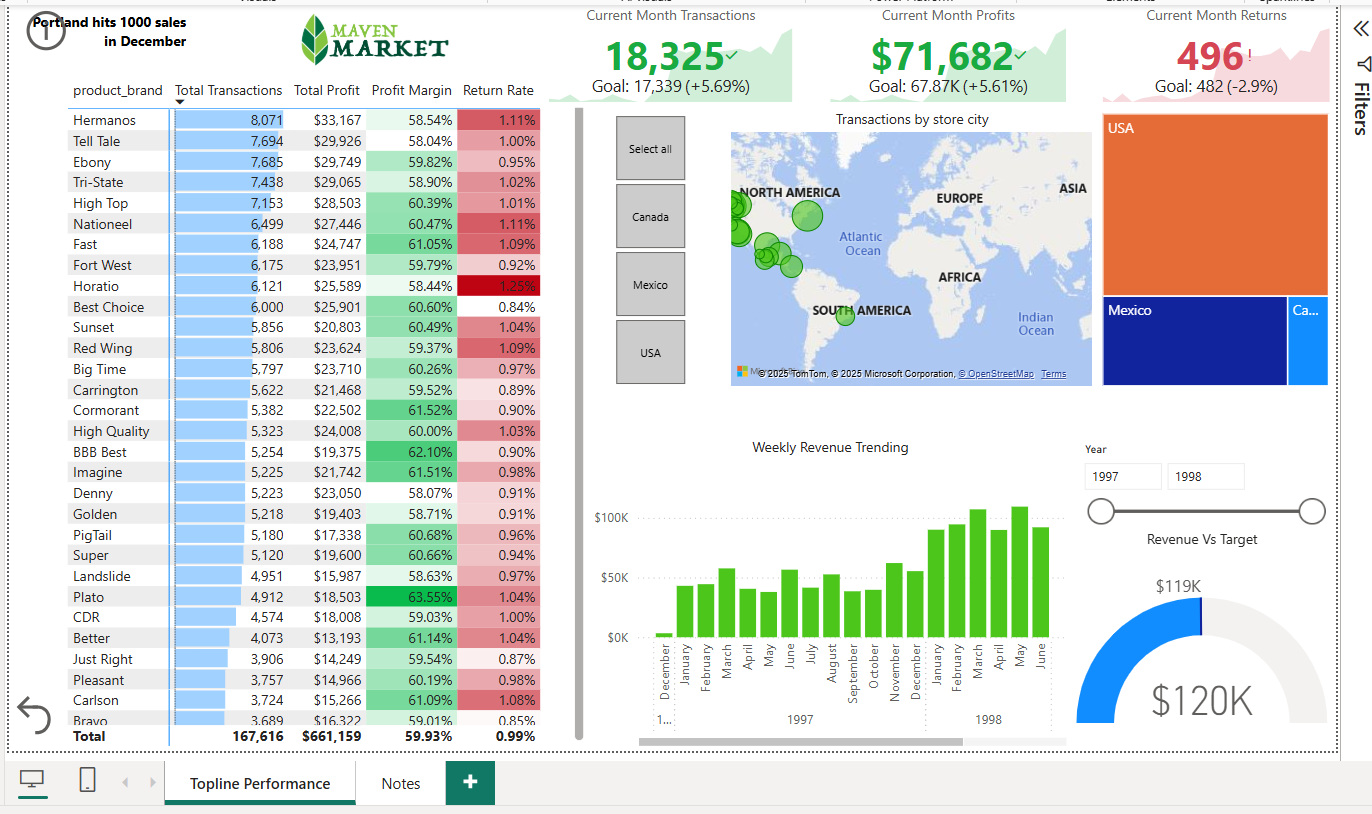

What the dashboard file says about the page in this screenshot:
{"tool":"powerbi","page":{"name":"Topline Performance","canvas":[1280,720],"ordinal":0},"visuals":[{"type":"image","box":[189.4,0,326.9,66.4],"z":0},{"type":"pivotTable","fields":{"Rows":["Products.product_brand"],"Values":["Measures Table.Total Transactions","Measures Table.Total Profit","Measures Table.Profit Margin","Measures Table.Return Rate"]},"box":[51.9,66.4,507.9,653.9],"z":1},{"type":"kpi","title":"Current Month Transactions","fields":{"Indicator":["Measures Table.Total Transactions"],"TrendLine":["Calendar.Start of Month"],"Goal":["Measures Table.Last Month Transactions"]},"box":[516.4,0,244.9,98.9],"z":2},{"type":"kpi","title":"Current Month Profits","fields":{"TrendLine":["Calendar.Start of Month"],"Indicator":["Measures Table.Total Profit"],"Goal":["Measures Table.Last Month Profit"]},"box":[787.8,0,237.7,98.9],"z":3},{"type":"kpi","title":"Current Month Returns","fields":{"TrendLine":["Calendar.Start of Month"],"Indicator":["Measures Table.Total Returns"],"Goal":["Measures Table.Last Month Returns"]},"box":[1050.8,0,229.2,98.9],"z":4},{"type":"map","title":"Transactions by store city","fields":{"Category":["Stores.store_city"],"Size":["Measures Table.Total Transactions"]},"box":[692.5,100.1,358.3,272.7],"z":5},{"type":"slicer","fields":{"Values":["Stores.store_country"]},"box":[559.8,99.6,116.9,272.7],"z":6},{"type":"treemap","fields":{"Group":["Stores.store_country","Stores.store_state","Stores.store_city"],"Values":["Measures Table.Total Transactions"]},"box":[1050.3,99.6,228,272.7],"z":7},{"type":"columnChart","title":"Weekly Revenue Trending","fields":{"Category":["Calendar.Start of Week.Variation.Date Hierarchy.Year","Calendar.Start of Week.Variation.Date Hierarchy.Month","Calendar.Start of Week.Variation.Date Hierarchy.Day"],"Y":["Measures Table.Total Revenue"]},"box":[559.8,417,466,303],"z":8},{"type":"slicer","fields":{"Values":["Calendar.date.Variation.Date Hierarchy.Year"]},"box":[1025.5,417.4,253.4,89.3],"z":9},{"type":"gauge","title":"Revenue Vs Target","fields":{"Y":["Measures Table.Total Revenue"],"TargetValue":["Measures Table.Revenue Target"]},"box":[1025.5,505.5,252.1,205.1],"z":10},{"type":"actionButton","box":[0,0,174.9,49.5],"z":11},{"type":"actionButton","box":[0,661.1,51.9,48.3],"z":12}]}

Visuals, with their boxes on the page's 1280x720 design canvas (x1, y1, x2, y2). These are canvas units, not pixel positions in the 1372x814 screenshot, which may show the page scaled, cropped or inside an application window:
image: x1=189 y1=0 x2=516 y2=66
pivotTable - Products.product_brand x Measures Table.Total Transactions: x1=52 y1=66 x2=560 y2=720
"Current Month Transactions" kpi: x1=516 y1=0 x2=761 y2=99
"Current Month Profits" kpi: x1=788 y1=0 x2=1026 y2=99
"Current Month Returns" kpi: x1=1051 y1=0 x2=1280 y2=99
"Transactions by store city" map: x1=692 y1=100 x2=1051 y2=373
slicer - Stores.store_country: x1=560 y1=100 x2=677 y2=372
treemap - Stores.store_country x Stores.store_state: x1=1050 y1=100 x2=1278 y2=372
"Weekly Revenue Trending" columnChart: x1=560 y1=417 x2=1026 y2=720
slicer - Calendar.date.Variation.Date Hierarchy.Year: x1=1026 y1=417 x2=1279 y2=507
"Revenue Vs Target" gauge: x1=1026 y1=506 x2=1278 y2=711
actionButton: x1=0 y1=0 x2=175 y2=50
actionButton: x1=0 y1=661 x2=52 y2=709
